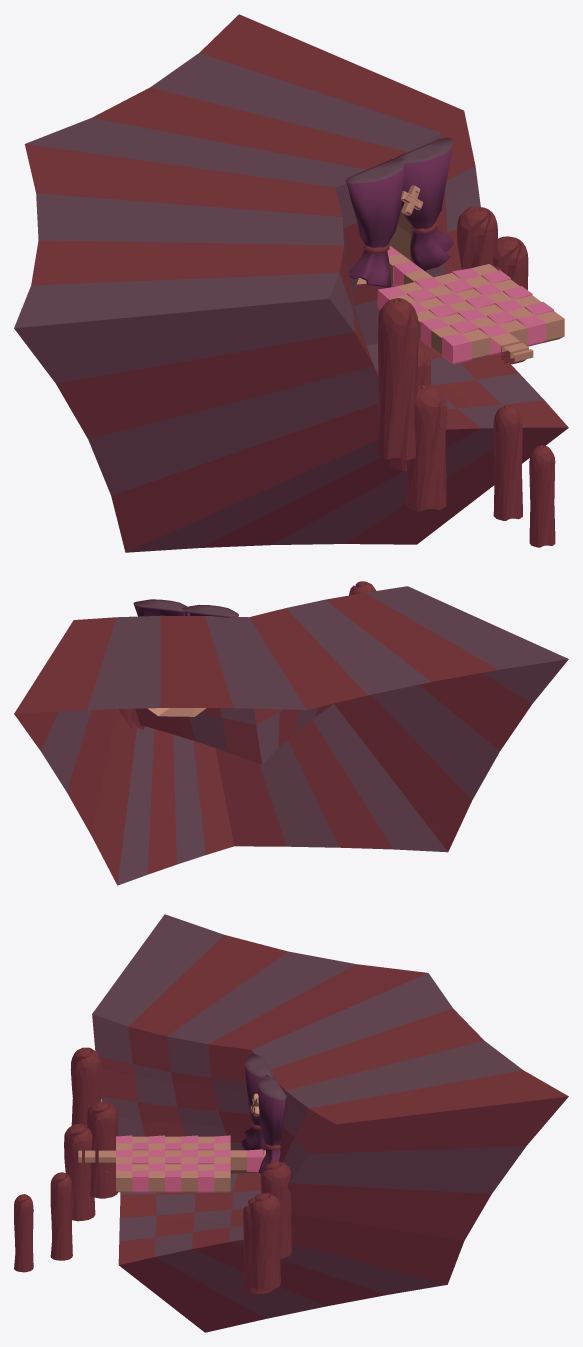
The model's file is MusicPuzzleBlockRedesign.fbx.
The picture shows the model from 3 angles, top to bottom: view 1: azimuth 30°, elevation 25°; view 2: azimuth 150°, elevation 25°; view 3: azimuth 270°, elevation 25°; orthographic projection. The views are drawn at different scales.
Visible parts, largest first — view 1: PuzzleEnvironment; view 2: PuzzleEnvironment; view 3: PuzzleEnvironment.
Boxes of the visible parts, bbox=[...] form: PuzzleEnvironment: bbox=[14, 14, 568, 552]; PuzzleEnvironment: bbox=[14, 581, 568, 885]; PuzzleEnvironment: bbox=[14, 914, 568, 1332].
Size of the model in its own units: 6199 by 3620 by 6775.
